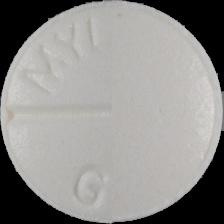0615-3595: (0, 0, 224, 224)
